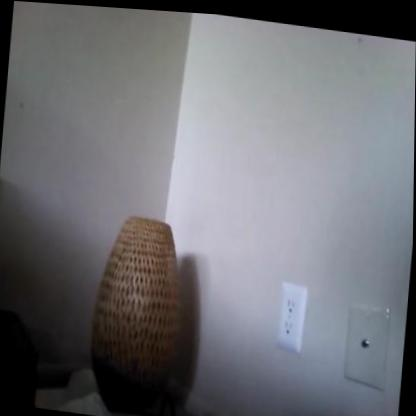OUTLET: (277, 281, 309, 353)
